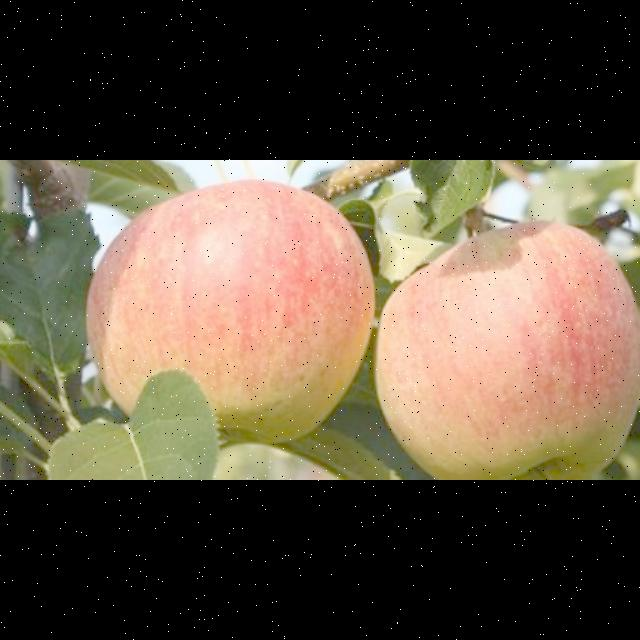Apel Segar: (89, 178, 377, 450), (386, 220, 640, 480)
